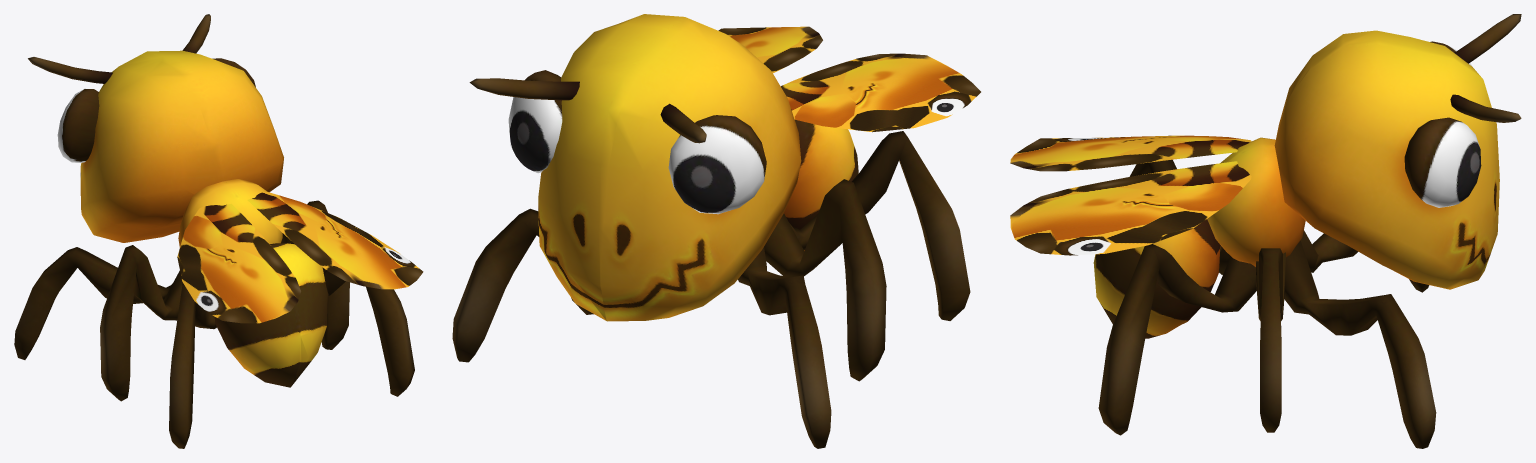
Rendered from bee.glb.
3 renders of one model, left to right at view 1: azimuth 30°, elevation 25°; view 2: azimuth 150°, elevation 25°; view 3: azimuth 270°, elevation 25°, orthographic. The views are drawn at different scales.
Parts seen in each view (by area): view 1: drum, GP_Layer.003; view 2: drum, GP_Layer.003; view 3: GP_Layer.003, drum.
Boxes of the visible parts, x1,y1,x2,y2 form: drum: (14,55,301,448); GP_Layer.003: (140,14,423,396); drum: (601,22,980,448); GP_Layer.003: (452,14,822,362); GP_Layer.003: (1010,39,1521,448); drum: (1010,14,1521,292).
Size of the model in its own units: 0.9658 by 0.8835 by 1.24.
1 material, 1 textured.
